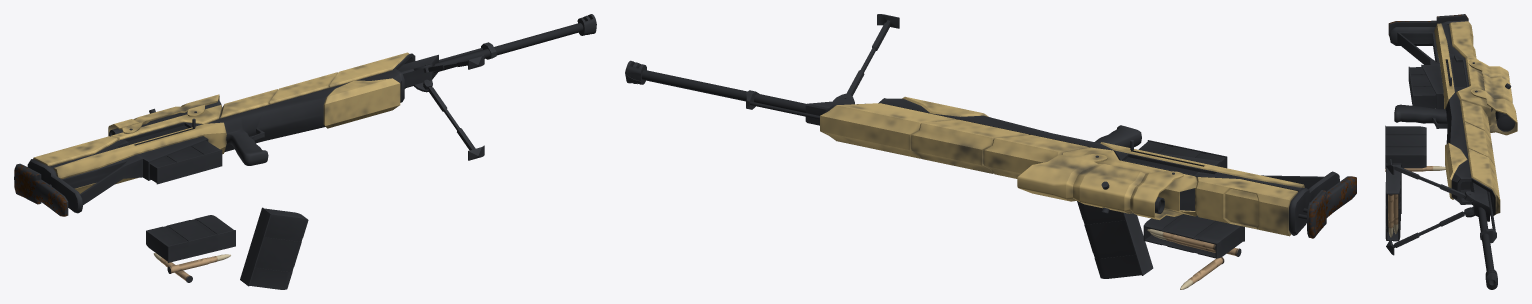
The model's file is Mid_Longshot.glb.
3 views of the same model, side by side, from view 1: azimuth 30°, elevation 25°; view 2: azimuth 150°, elevation 25°; view 3: azimuth 270°, elevation 25° (orthographic). The views are drawn at different scales.
Visible parts, largest first — view 1: Cube.000_Material.001_0; view 2: Cube.000_Material.001_0; view 3: Cube.000_Material.001_0.
Boxes of the visible parts, x1=… form: Cube.000_Material.001_0: x1=14, y1=14, x2=596, y2=289; Cube.000_Material.001_0: x1=625, y1=14, x2=1356, y2=289; Cube.000_Material.001_0: x1=1385, y1=14, x2=1517, y2=289.
Size of the model in its own units: 1.92 by 0.5624 by 0.4194.
1 material, 1 textured.
